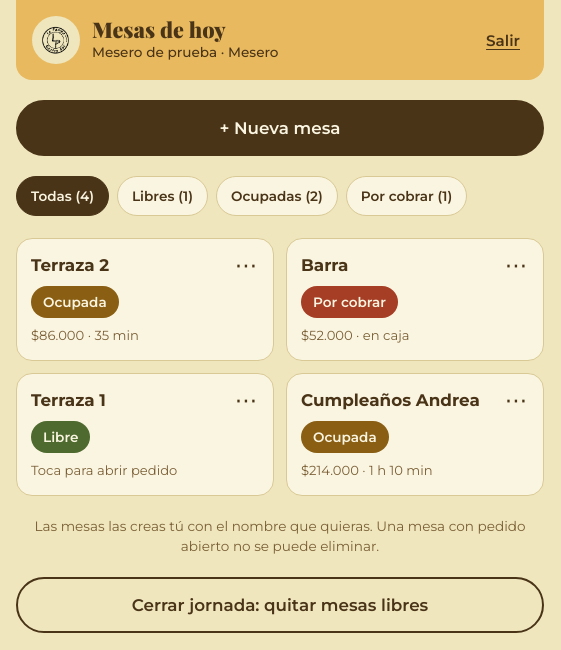
Scenario: Mesas de hoy (HU03) › filtra por estado y muestra cuántas hay de cada una
The image size is (561, 650).
Check: the text "Terraza 1" is shown, box [31,388,106,413]
Check: the button "Ocupadas (2)" is shown, box [216,176,338,216]
Click the button "Libres (1)". click: x=162, y=196
box: [117,176,208,216]
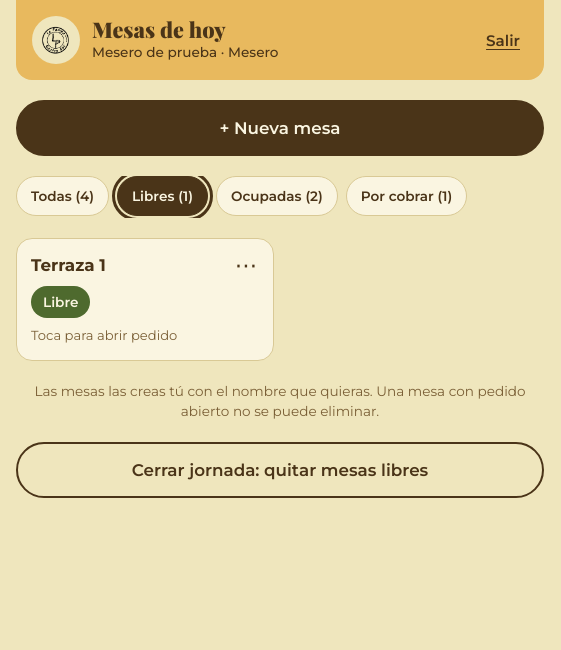
Check: the number of list items is 1, box [16,238,274,361]
Check: the button "Barra" is gone
